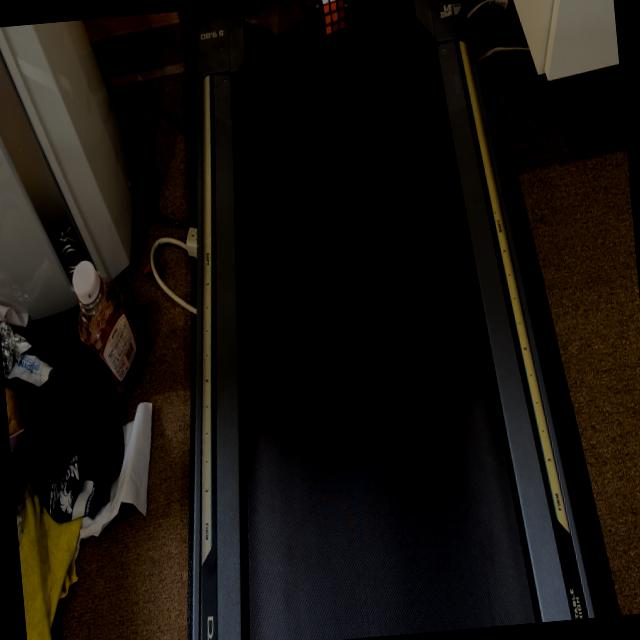Trash: (318, 0, 349, 38)
